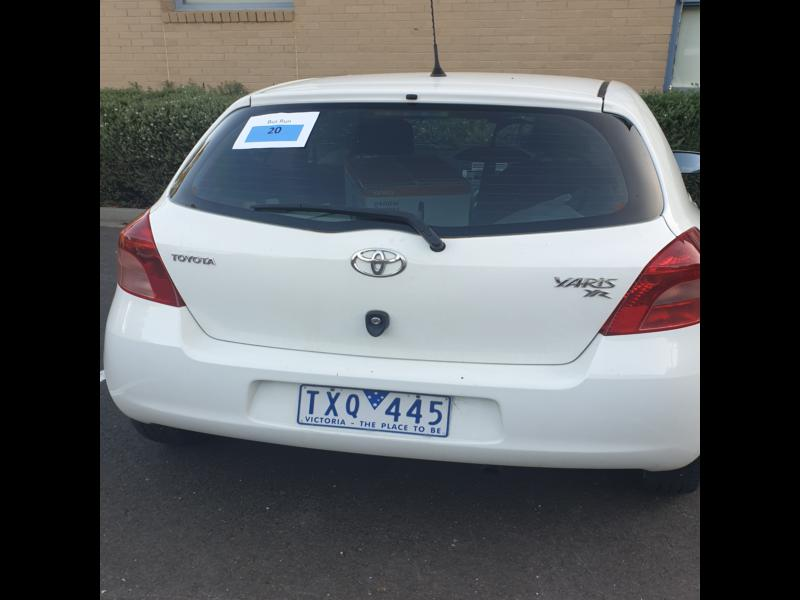BusRun: (242, 123, 304, 141)
PlateNo: (297, 383, 451, 438)
